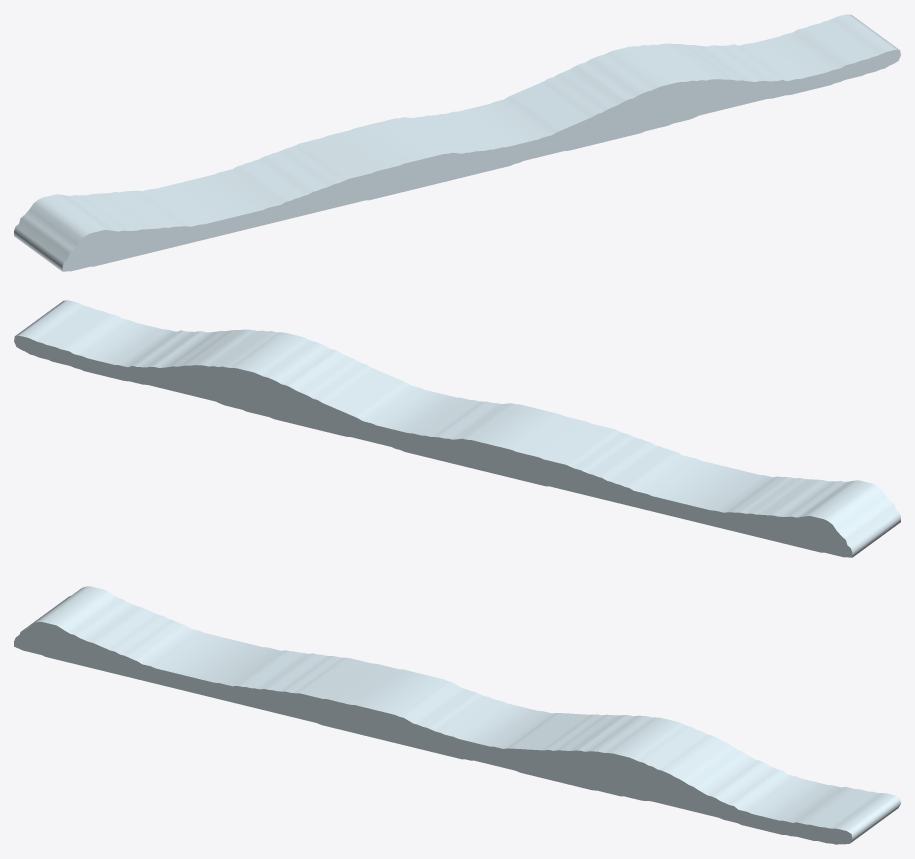
File: Edge3.fbx
The picture shows the model from 3 angles, top to bottom: view 1: azimuth 30°, elevation 25°; view 2: azimuth 150°, elevation 25°; view 3: azimuth 330°, elevation 25°; orthographic projection.
Parts seen in each view (by area): view 1: root; view 2: root; view 3: root.
Boxes of the visible parts, x1,y1,x2,y2 form: root: [14, 14, 900, 271]; root: [14, 300, 900, 557]; root: [14, 586, 900, 844].
Bounding box in the file's own units: 0.9959 × 0.0484 × 0.1.
Materials: 1 (1 with a texture image).
